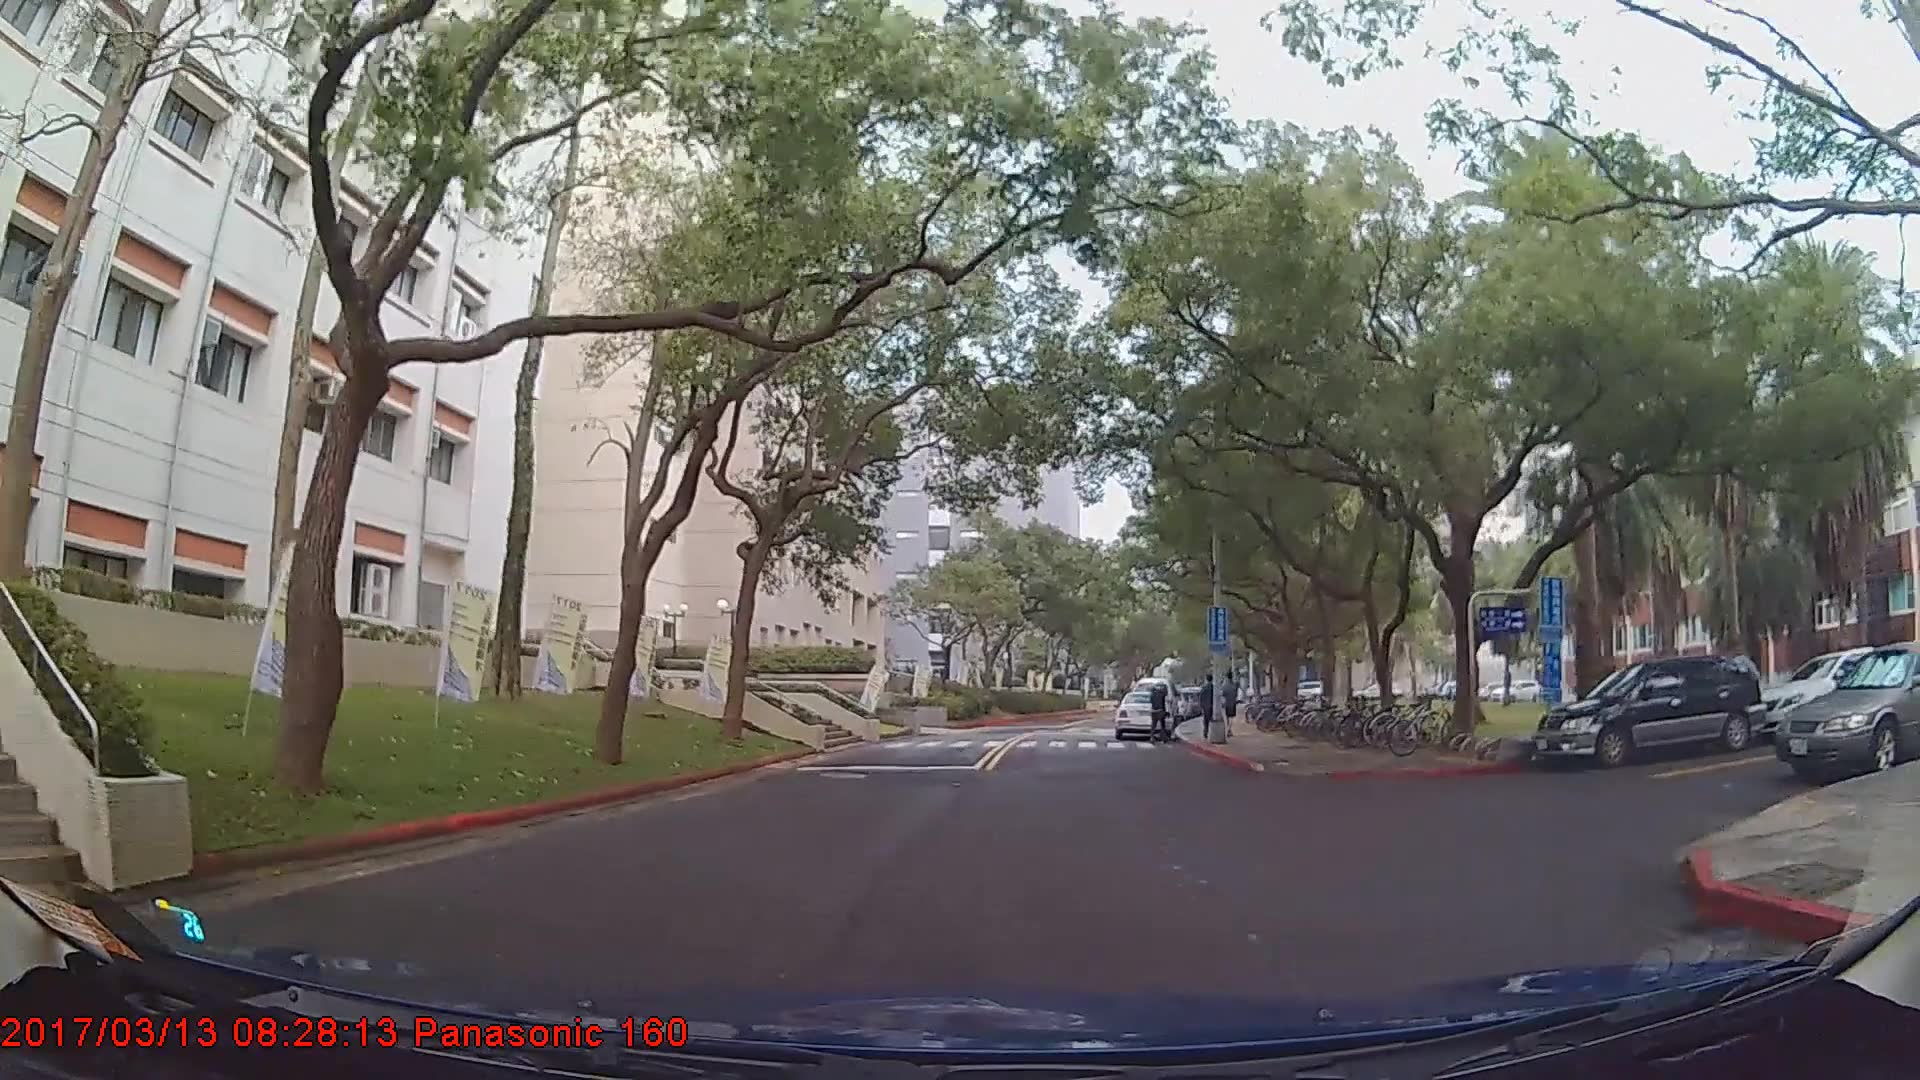pedestrian: (1200, 676, 1223, 740), (1149, 680, 1169, 747)
vehicle: (1532, 652, 1764, 767), (1772, 641, 1920, 784), (1111, 689, 1173, 738)
